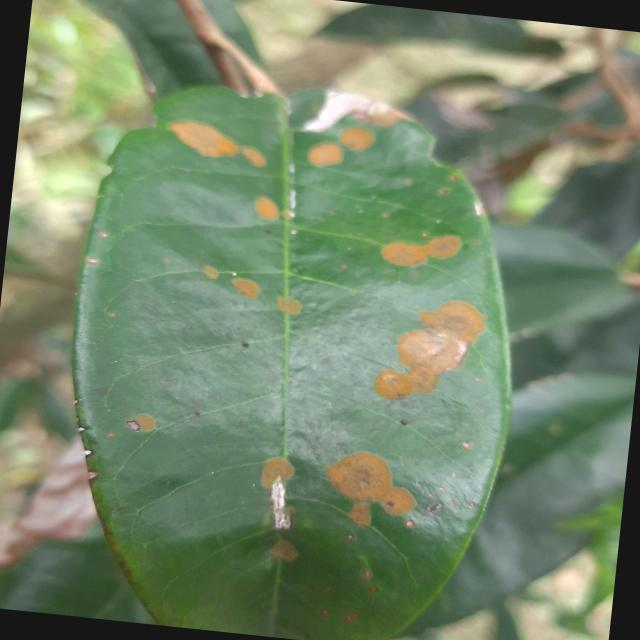Algal Leaf Spot: (39, 60, 551, 639)
